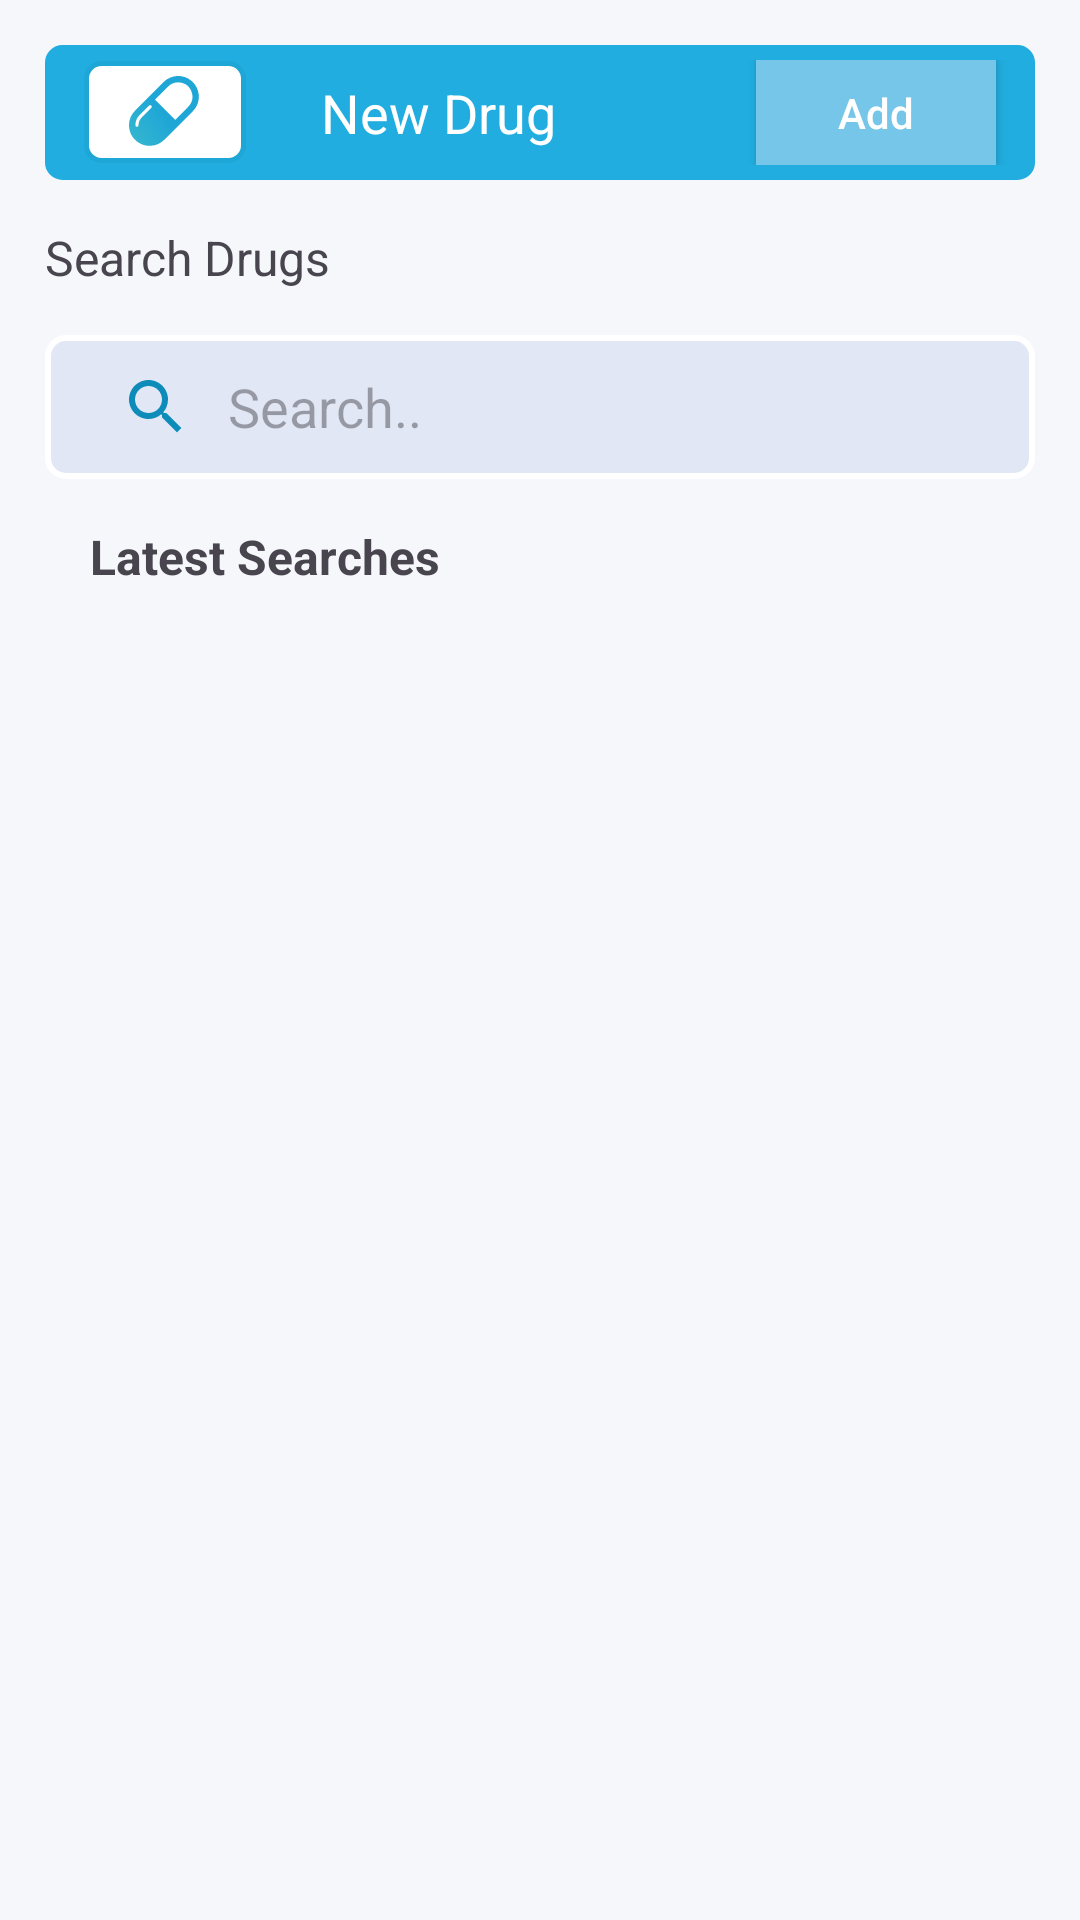

Locate icon controls on the screen. Image size 1080px×1920px, boxes as detection(x1, y1, x2, y2).
capsul: detection(89, 66, 241, 158)
